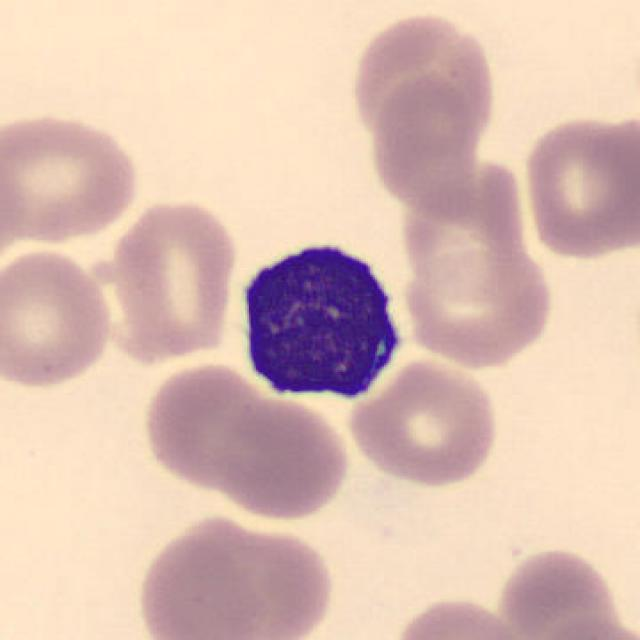Lymphocyte: (229, 226, 416, 409)
RBC: (139, 356, 354, 520), (132, 513, 336, 638), (345, 9, 501, 164), (108, 194, 242, 361), (345, 356, 503, 490), (2, 109, 146, 247), (400, 244, 555, 371), (518, 110, 637, 265), (0, 243, 114, 395), (492, 543, 626, 638), (388, 594, 532, 640), (531, 612, 640, 640)
